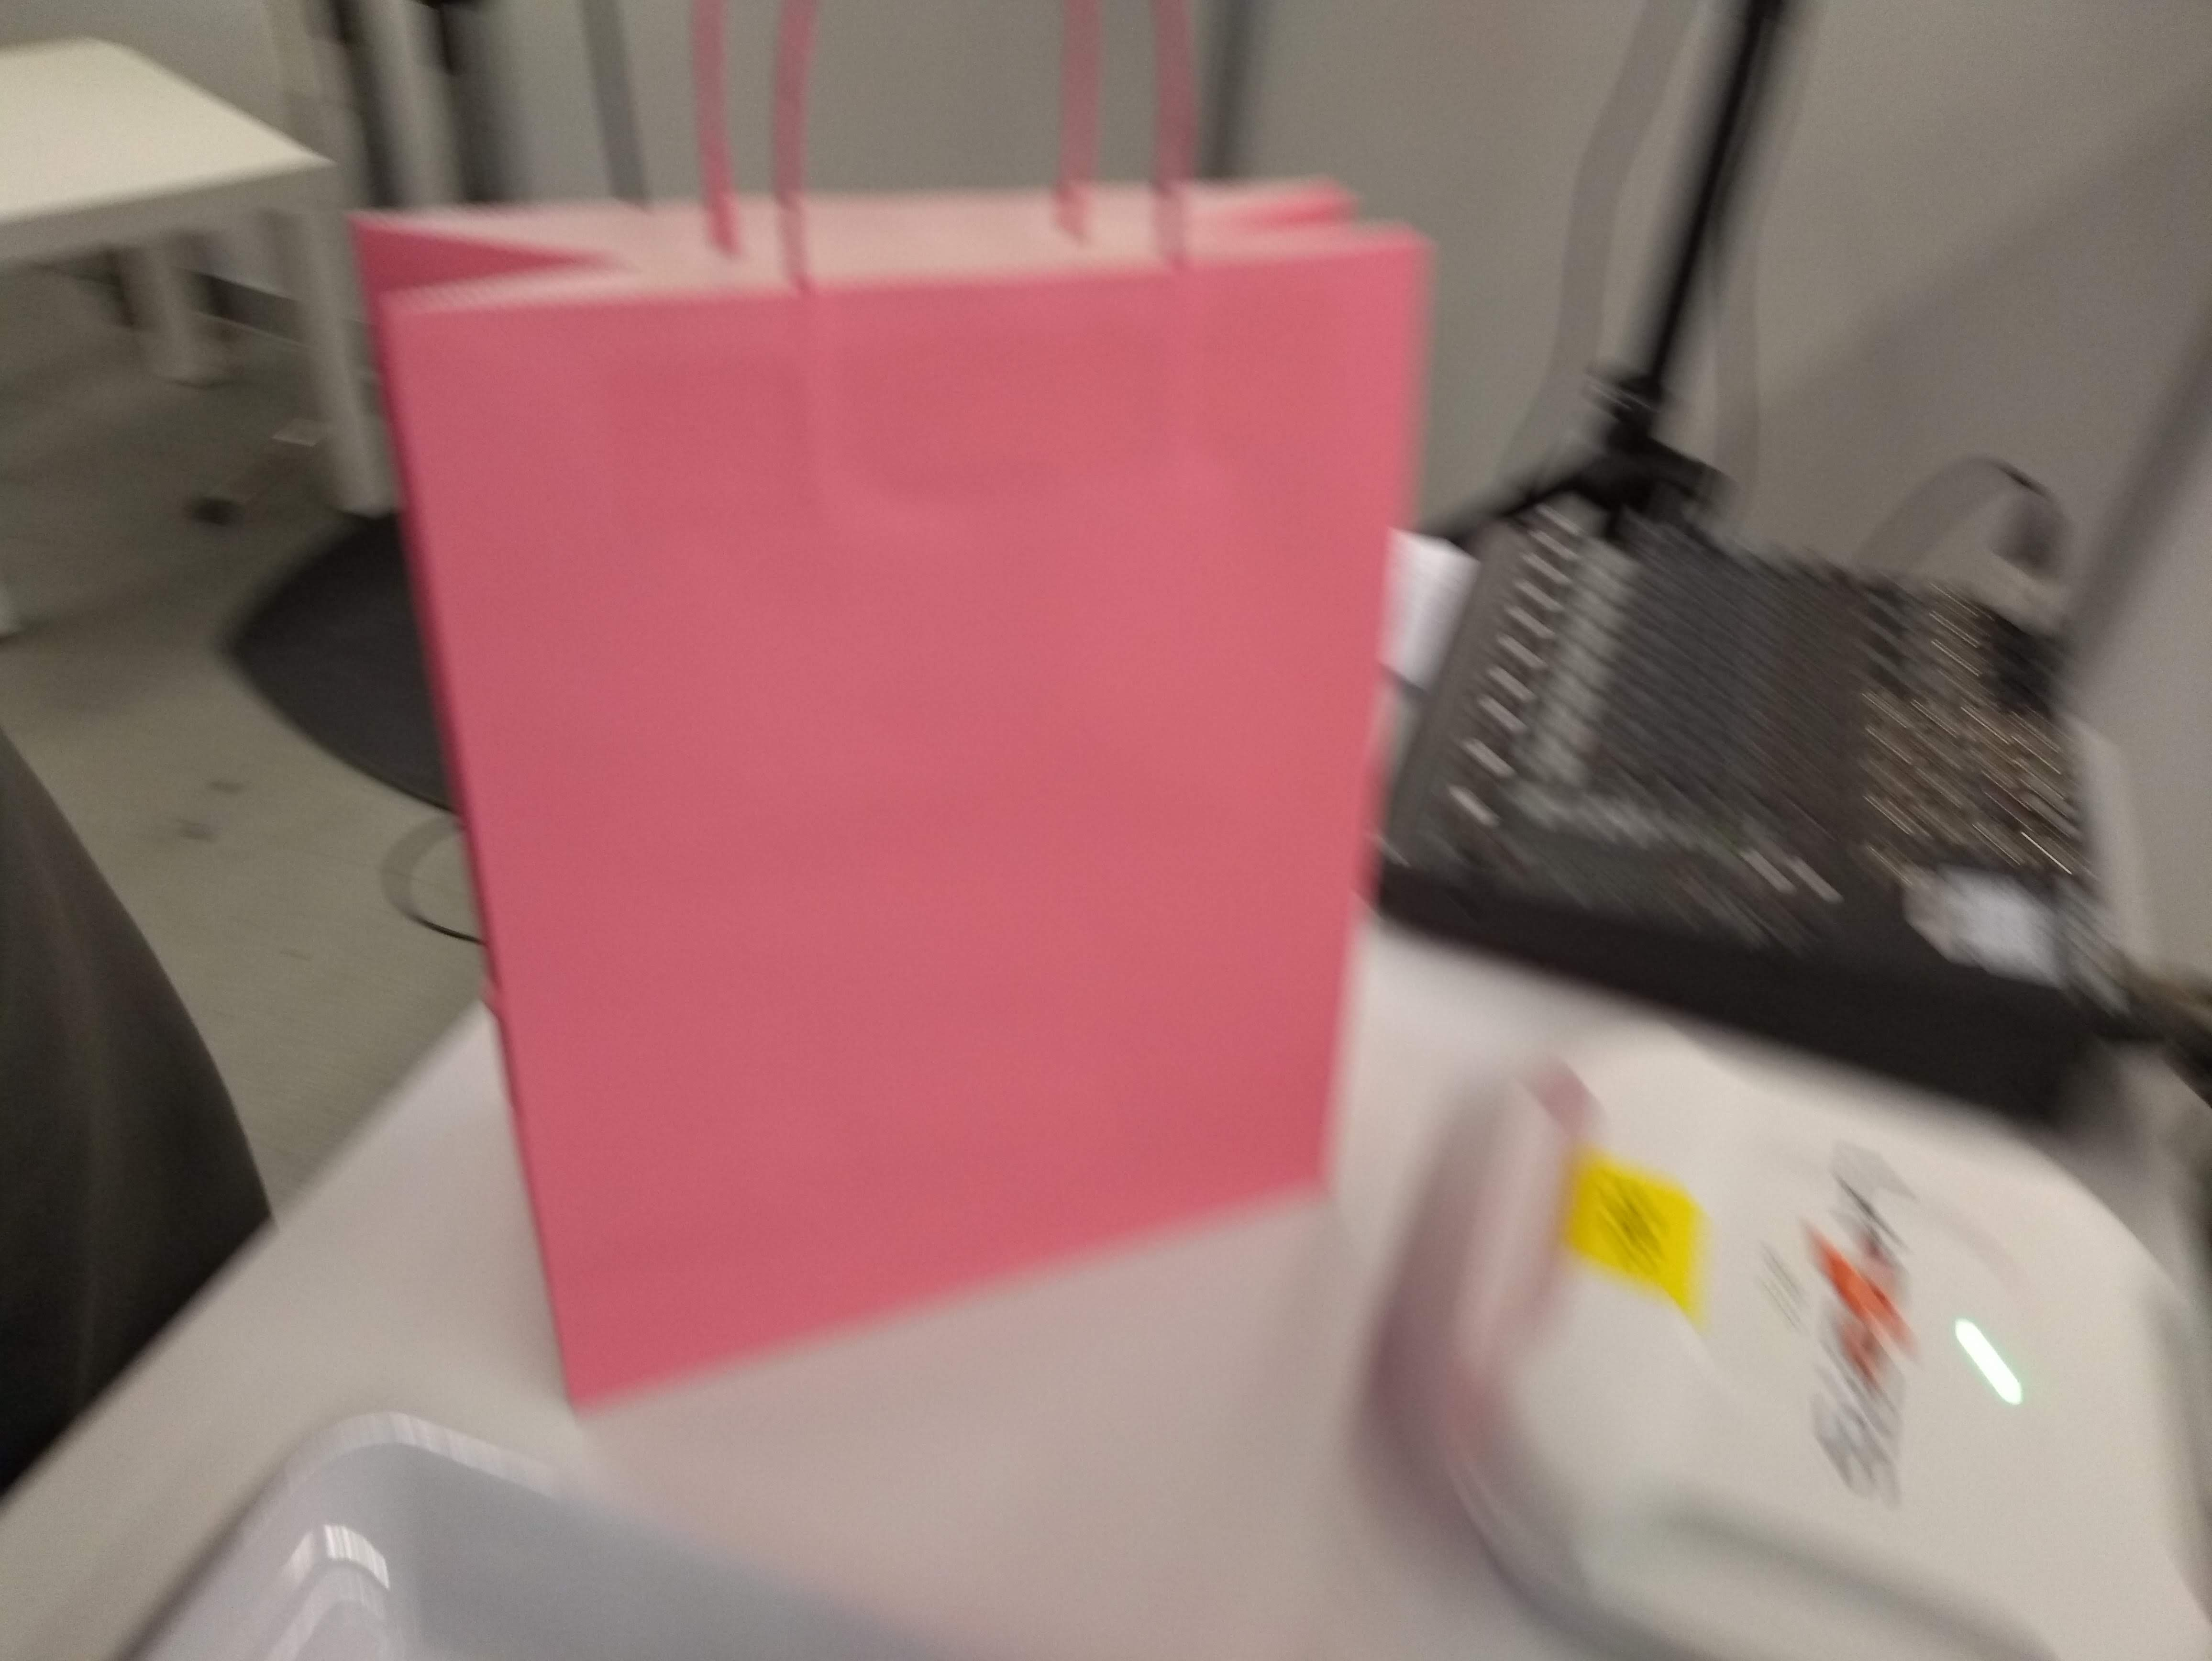help_me_carry_opl: (356, 2, 1436, 1413)
